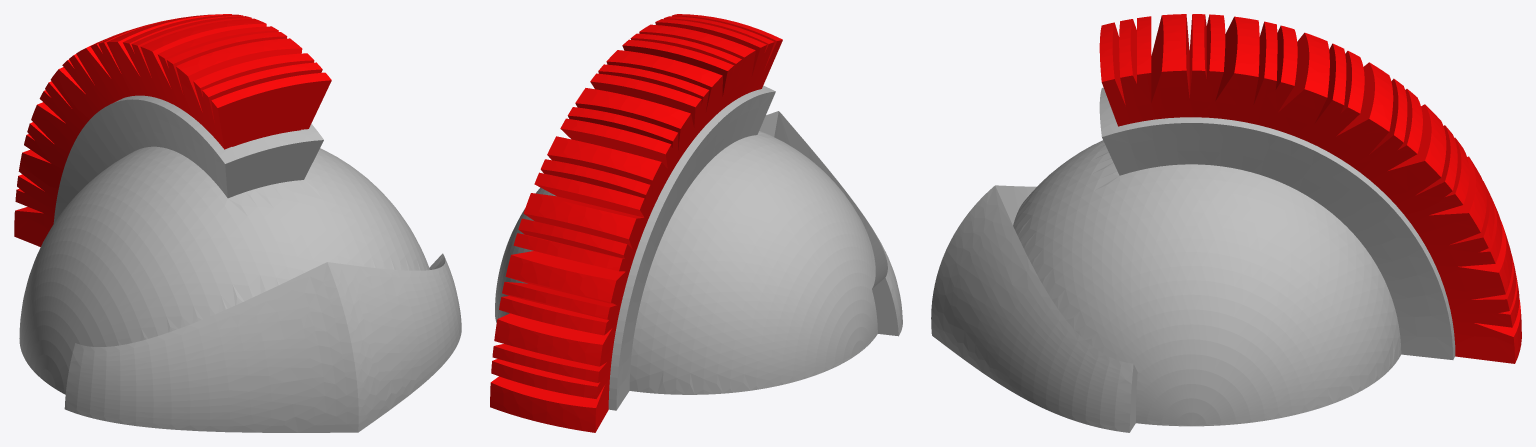
The model's file is Hat_Gladiator.glb.
3 renders of one model, left to right at view 1: azimuth 30°, elevation 25°; view 2: azimuth 150°, elevation 25°; view 3: azimuth 270°, elevation 25°, orthographic. The views are drawn at different scales.
Parts seen in each view (by area): view 1: Node2, Node1; view 2: Node2, Node1; view 3: Node2, Node1.
Part boxes in pixels (x1=…): Node2: x1=19, y1=95, x2=461, y2=432; Node1: x1=14, y1=14, x2=331, y2=246; Node2: x1=495, y1=85, x2=902, y2=410; Node1: x1=490, y1=14, x2=782, y2=432; Node2: x1=931, y1=87, x2=1455, y2=432; Node1: x1=1099, y1=14, x2=1521, y2=363.
Size of the model in its own units: 51.52 by 36.96 by 66.07.
